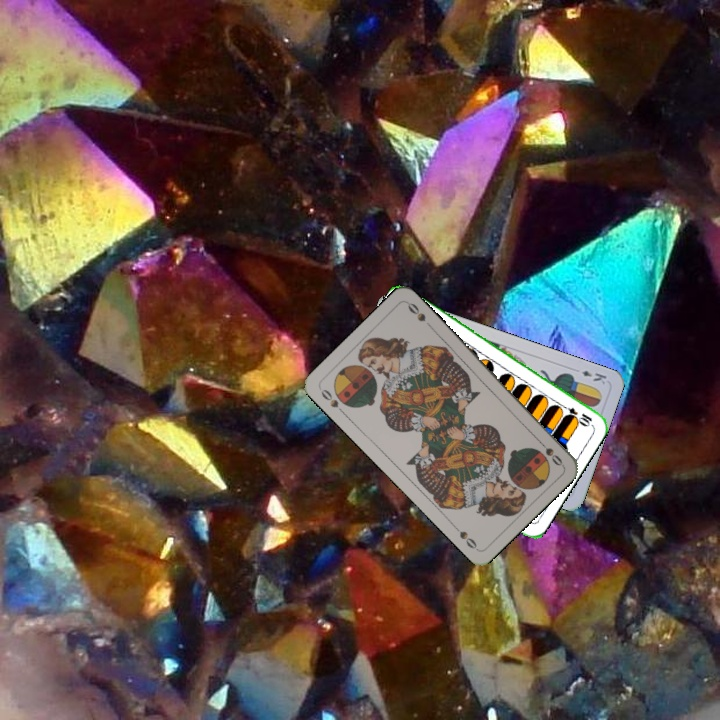E10: (556, 400, 595, 429)
EK: (577, 366, 609, 387)
SO: (533, 435, 565, 469), (316, 385, 348, 417)
